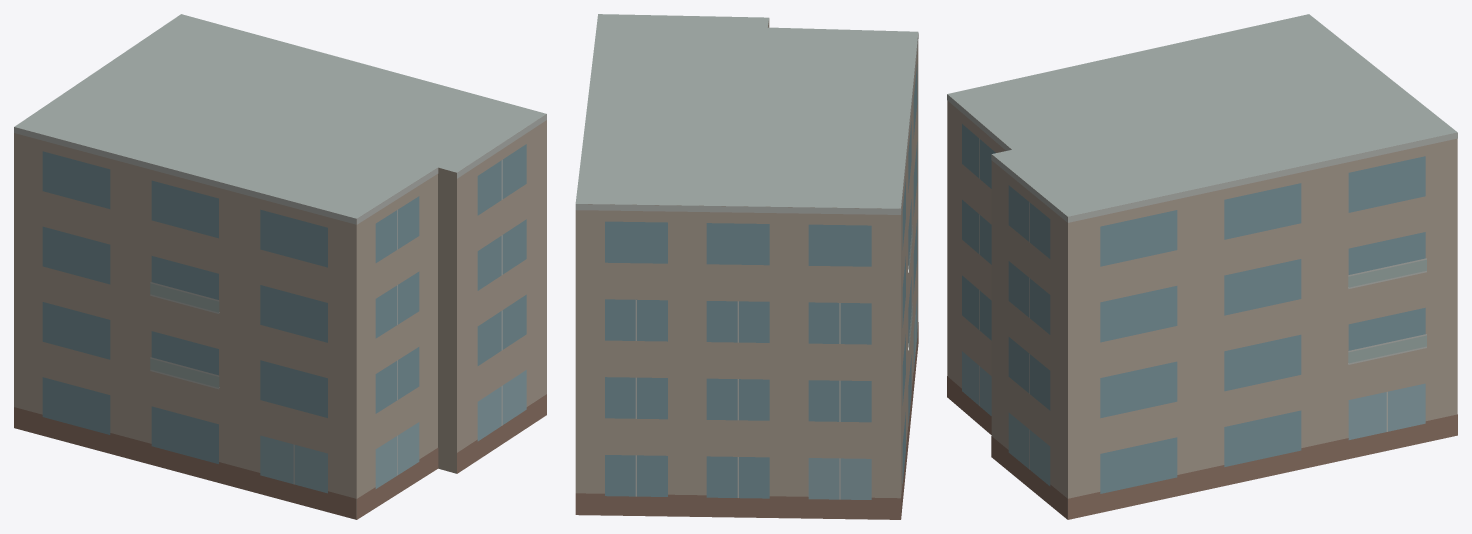
The model's file is survey-upis-32781141.glb.
The picture shows the model from 3 angles, left to right: view 1: azimuth 30°, elevation 25°; view 2: azimuth 150°, elevation 25°; view 3: azimuth 270°, elevation 25°; orthographic projection. The views are drawn at different scales.
Visible parts, largest first — view 1: survey-upis-32781141.tmp; view 2: survey-upis-32781141.tmp; view 3: survey-upis-32781141.tmp.
Boxes of the visible parts, x1,y1,x2,y2 form: survey-upis-32781141.tmp: [14, 14, 546, 519]; survey-upis-32781141.tmp: [575, 14, 918, 519]; survey-upis-32781141.tmp: [947, 14, 1457, 519].
Bounding box in the file's own units: 17.37 × 12.1 × 18.49.
